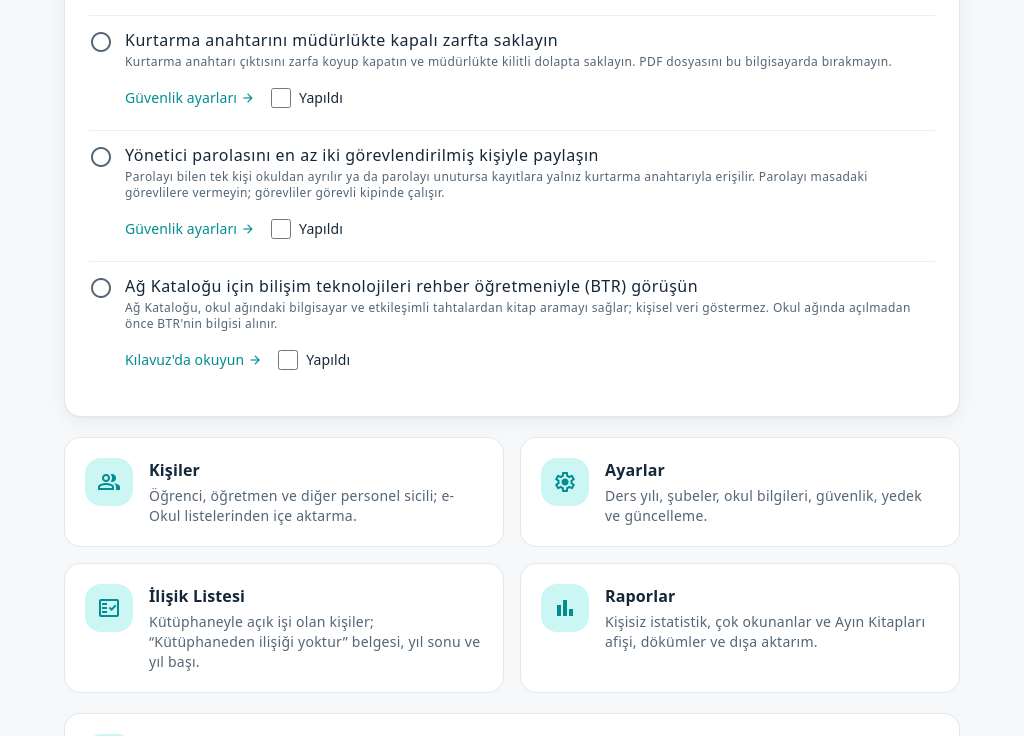
Test: Başlangıç Yol Haritası › işaret kaydedilemezse hata bildirilir, kutu işaretlenmez
The image size is (1024, 736).
(page scrolled)
Click the checkbox named "BTR) görüşün — yapıldı".
click(288, 360)  # box [278, 350, 298, 370]
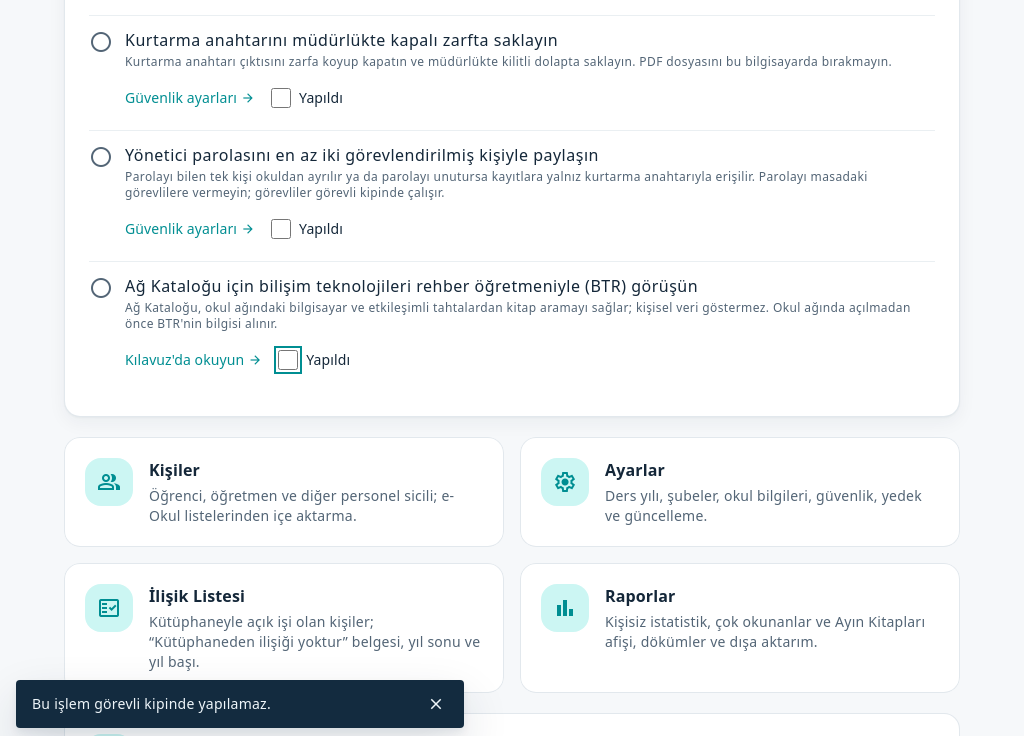
Expected: the text "Bu işlem görevli kipinde yapılamaz." is shown, [32, 694, 271, 713]
